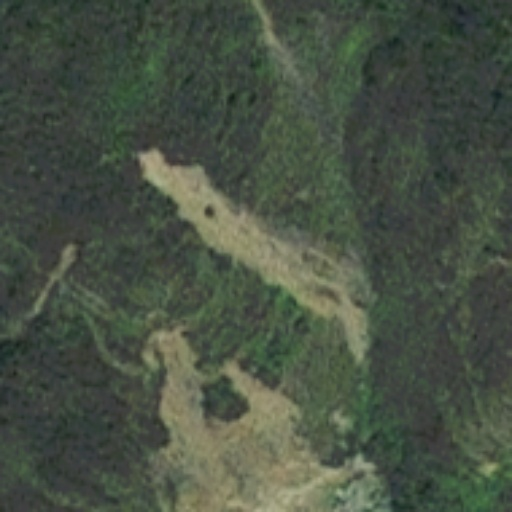landslide: (138, 148, 369, 341), (145, 329, 370, 507)
